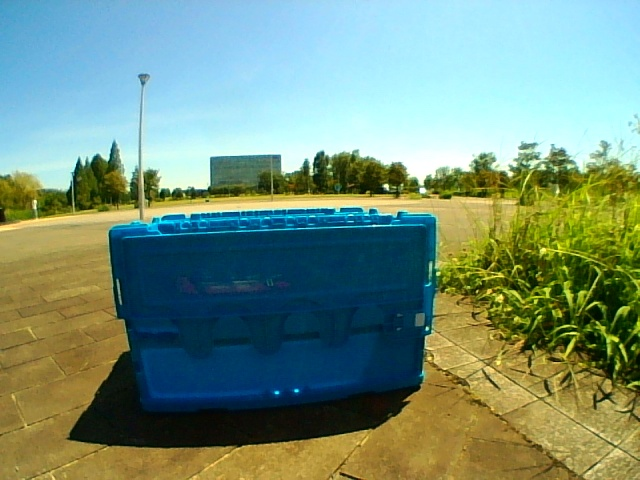blue_box: (143, 220, 422, 399)
